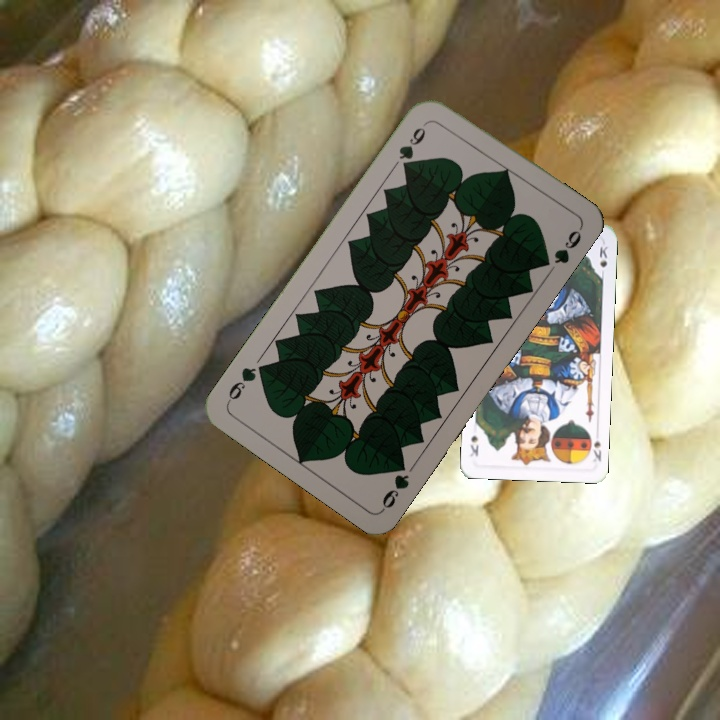G9: (394, 117, 432, 173), (378, 455, 412, 513)
SK: (589, 436, 604, 464)
